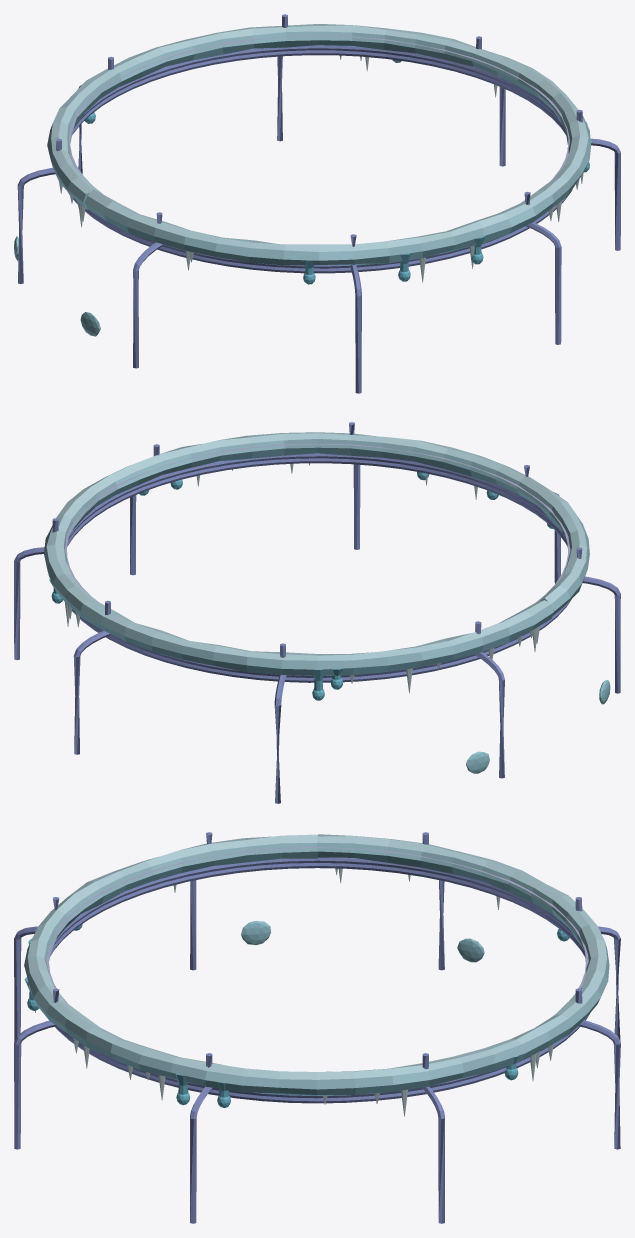
File: goo_jar_trim_1_mid@crystal.fbx
3 renders of one model, top to bottom at view 1: azimuth 30°, elevation 25°; view 2: azimuth 150°, elevation 25°; view 3: azimuth 270°, elevation 25°, orthographic. The views are drawn at different scales.
Parts seen in each view (by area): view 1: goo_jar_trim_1_mid; view 2: goo_jar_trim_1_mid; view 3: goo_jar_trim_1_mid.
Part boxes in pixels (<box>): goo_jar_trim_1_mid: <box>14,14,620,393</box>; goo_jar_trim_1_mid: <box>14,422,620,803</box>; goo_jar_trim_1_mid: <box>14,832,620,1223</box>.
Size of the model in its own units: 60.32 by 16.05 by 58.31.
